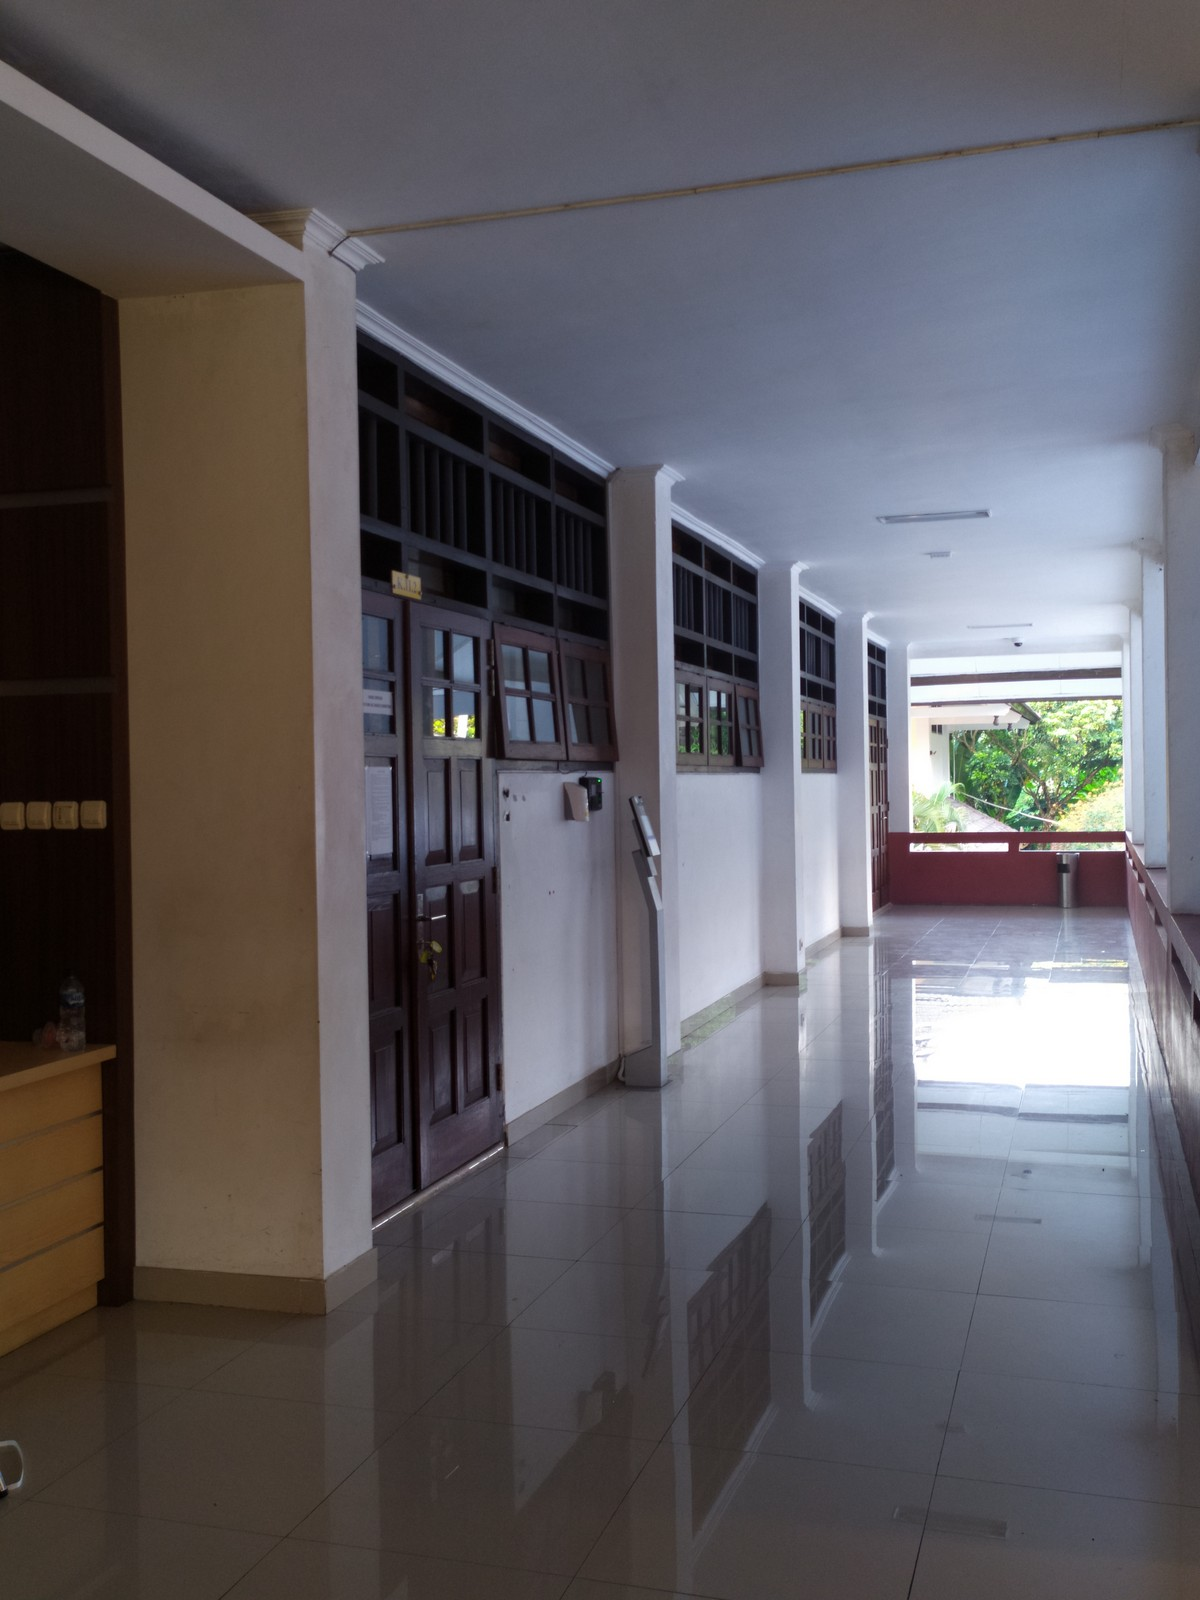concrete column: (92, 188, 403, 1319), (591, 451, 692, 1072), (747, 546, 818, 991), (827, 601, 884, 941)
